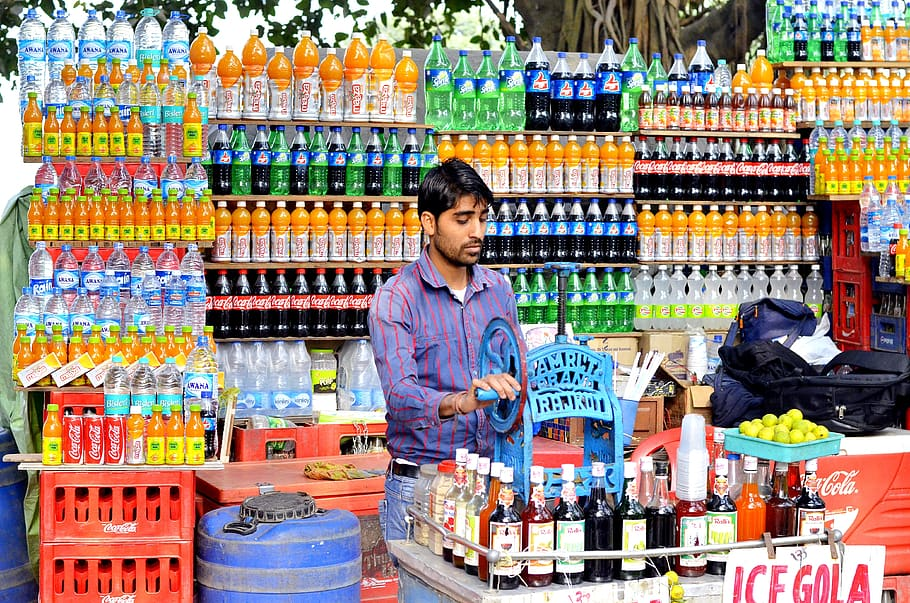person: (420, 170, 489, 266)
